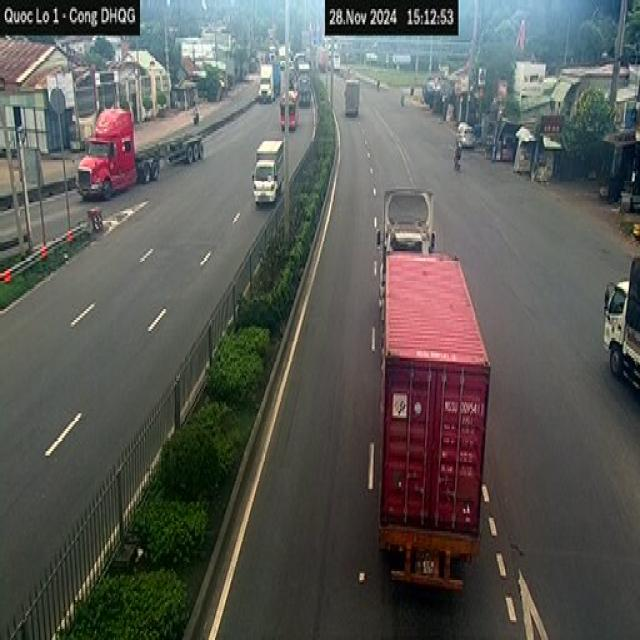container-truck: (374, 160, 496, 620), (77, 104, 211, 204)
truck: (602, 236, 640, 412), (248, 133, 288, 212)
